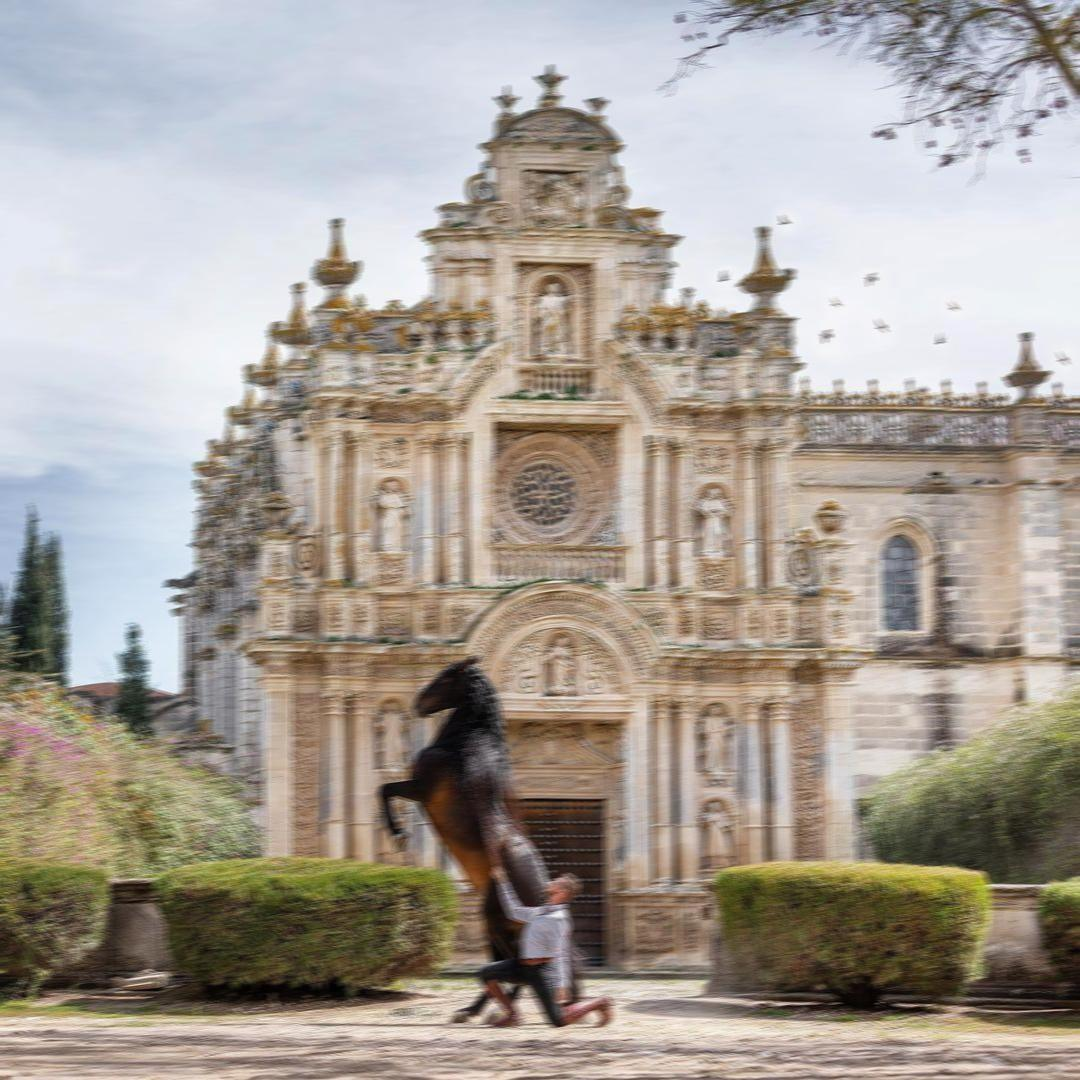horse: (376, 651, 611, 1028)
